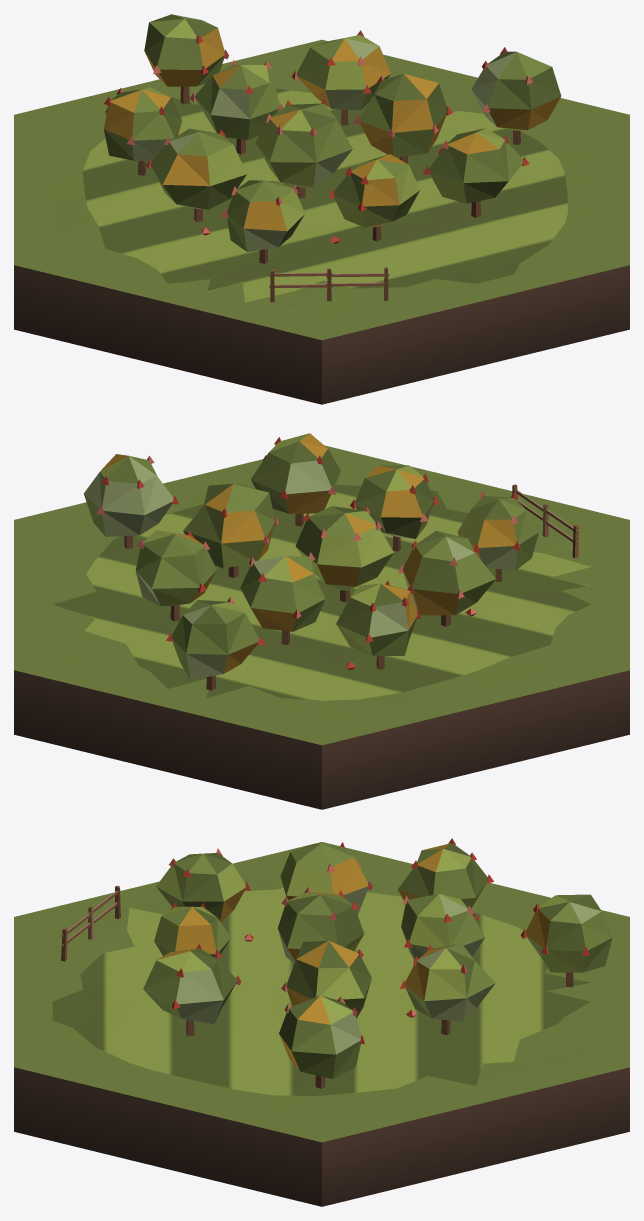
File: SM_Tile_Orchard_A.fbx
The picture shows the model from 3 angles, top to bottom: view 1: azimuth 30°, elevation 25°; view 2: azimuth 150°, elevation 25°; view 3: azimuth 270°, elevation 25°; orthographic projection.
Parts seen in each view (by area): view 1: SM_Tile_Orchard_A; view 2: SM_Tile_Orchard_A; view 3: SM_Tile_Orchard_A.
Boxes of the visible parts, <box> form: SM_Tile_Orchard_A: <box>14,14,629,404</box>; SM_Tile_Orchard_A: <box>14,433,629,809</box>; SM_Tile_Orchard_A: <box>14,838,629,1206</box>.
Size of the model in its own units: 20 by 4.89 by 17.32.
